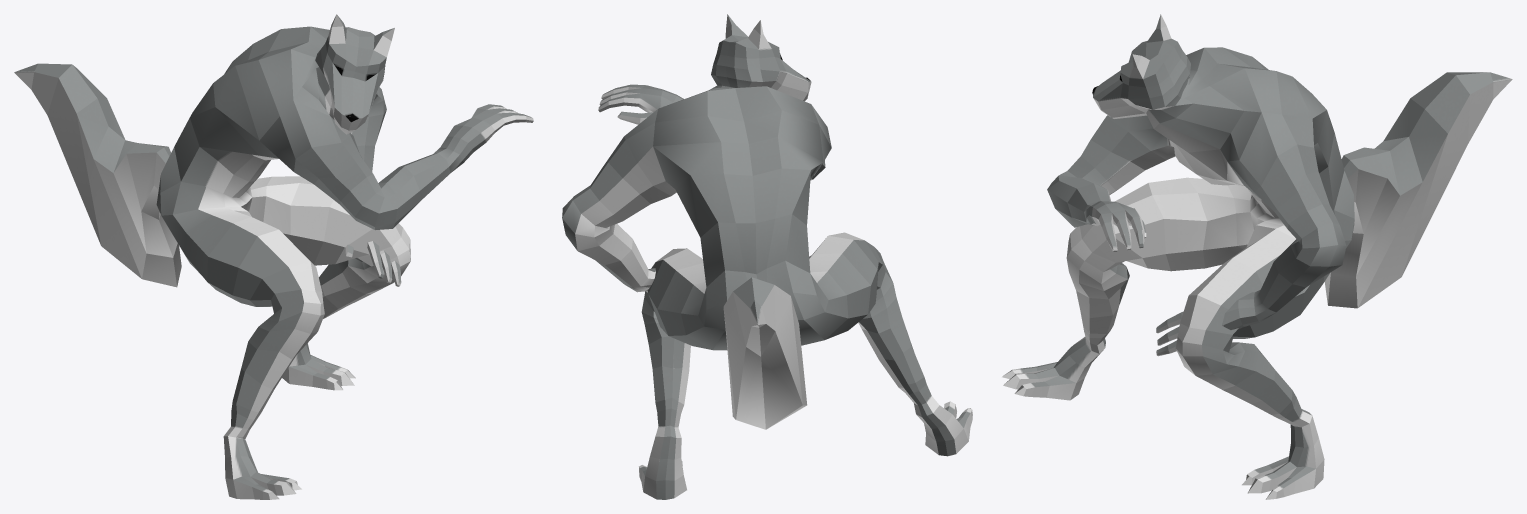
File: WolfAttack(54).obj
3 views of the same model, side by side, from view 1: azimuth 30°, elevation 25°; view 2: azimuth 150°, elevation 25°; view 3: azimuth 270°, elevation 25° (orthographic). The views are drawn at different scales.
Visible parts, largest first — view 1: Box001; view 2: Box001; view 3: Box001.
Part boxes in pixels (x1,y1,x2,y2): Box001: [14, 14, 533, 499]; Box001: [562, 14, 972, 499]; Box001: [1002, 14, 1512, 499].
Size of the model in its own units: 94.22 by 112 by 115.
